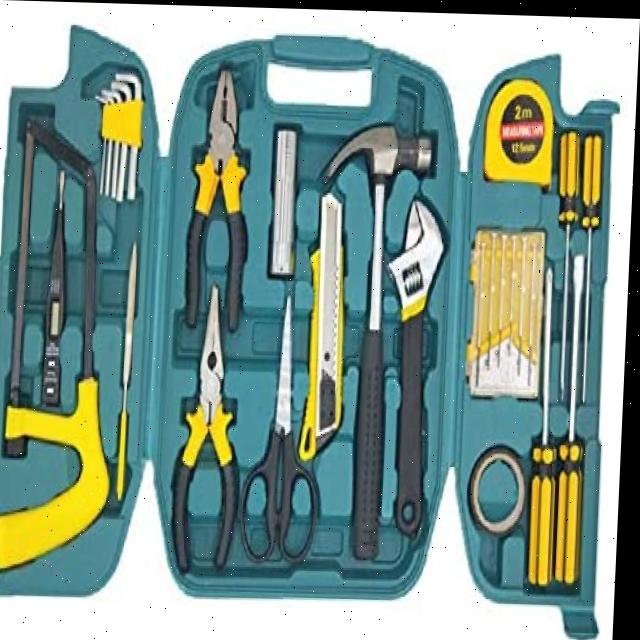Screwdriver: (559, 251, 588, 582), (532, 264, 561, 583), (560, 126, 582, 396), (583, 131, 604, 399)
